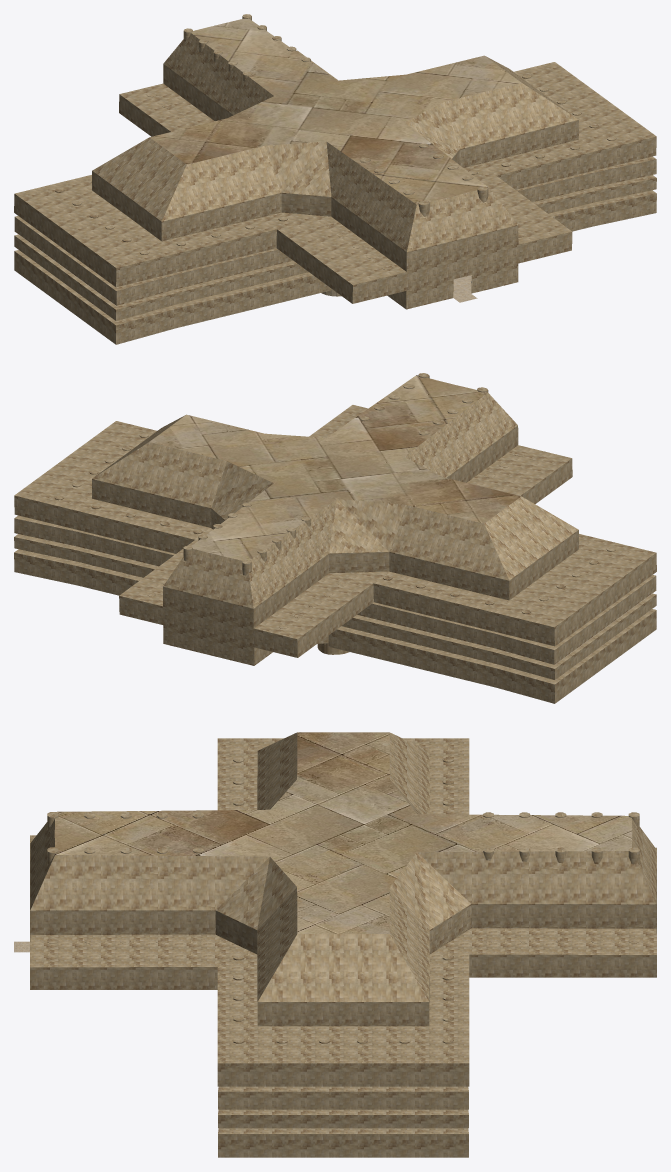
The model's file is Volumetría biblioteca.FBX.
3 views of the same model, one above another, from view 1: azimuth 30°, elevation 25°; view 2: azimuth 150°, elevation 25°; view 3: azimuth 270°, elevation 25° (orthographic). The views are drawn at different scales.
Parts seen in each view (by area): view 1: biblioteca; view 2: biblioteca; view 3: biblioteca.
Boxes of the visible parts, bbox=[...] form: biblioteca: bbox=[14, 14, 656, 344]; biblioteca: bbox=[14, 375, 656, 703]; biblioteca: bbox=[14, 732, 656, 1157].
Size of the model in its own units: 405 by 128 by 338.
